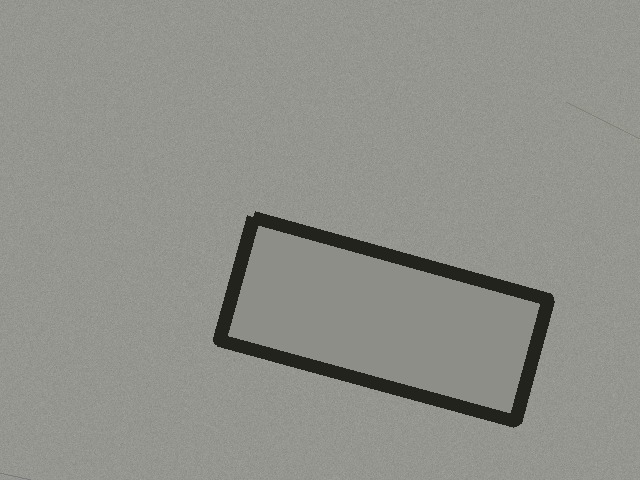parking_area: (219, 217, 548, 421)
